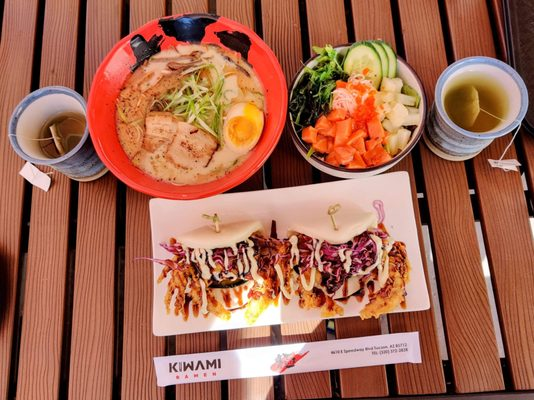pizza: (423, 54, 530, 161), (7, 86, 96, 171)
sushi: (84, 13, 290, 200), (287, 39, 427, 180)
